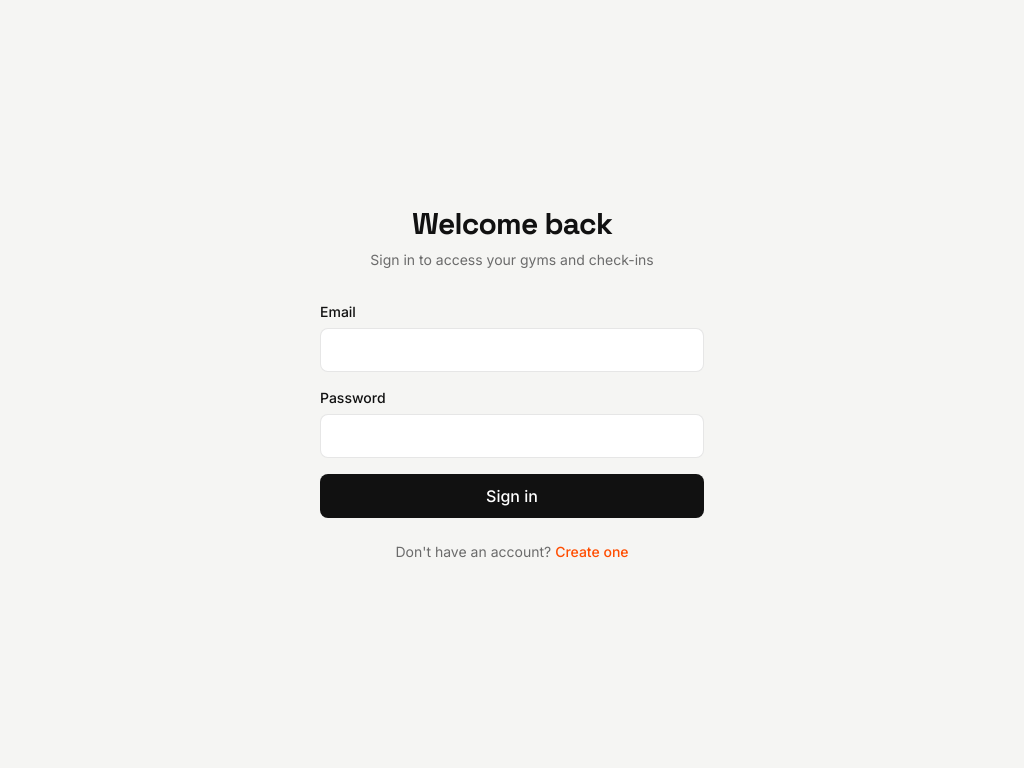
Test: LoginPage › navigates to dashboard on successful login
In the field labelled "Email": {"x": 512, "y": 350} top-left (320, 328), bottom-right (704, 372), type "alice@example.com"
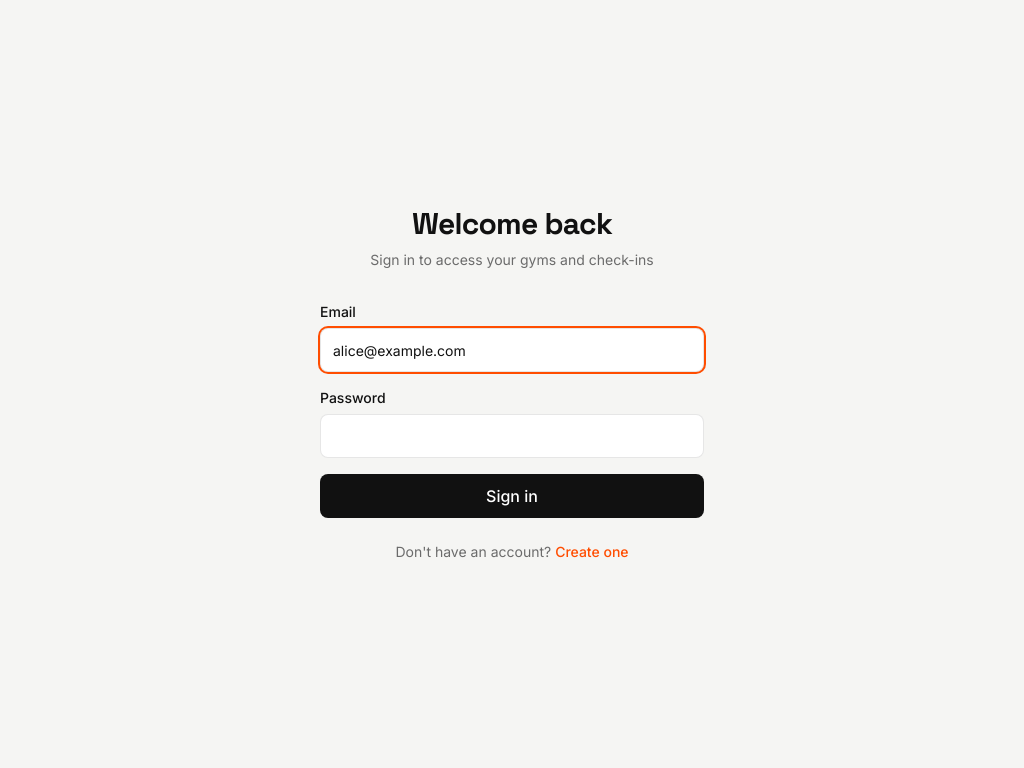
In the password field labelled "Password": {"x": 512, "y": 436} top-left (320, 414), bottom-right (704, 458), type "password"
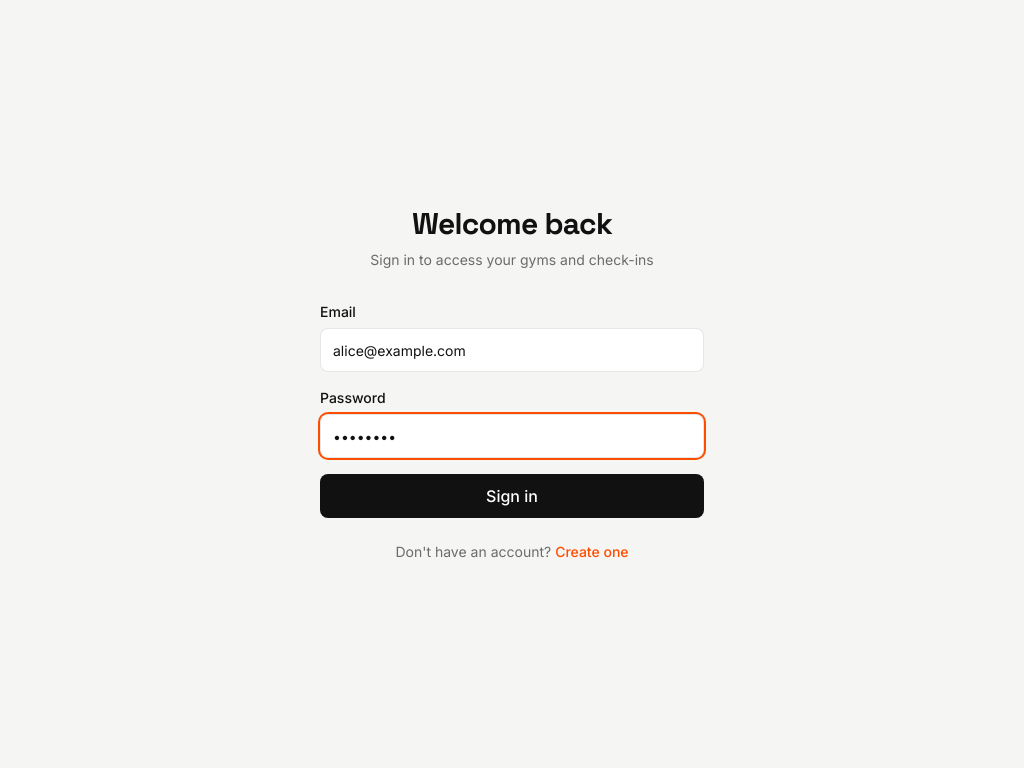
Click the button "Sign in": {"x": 512, "y": 496} top-left (320, 474), bottom-right (704, 518)
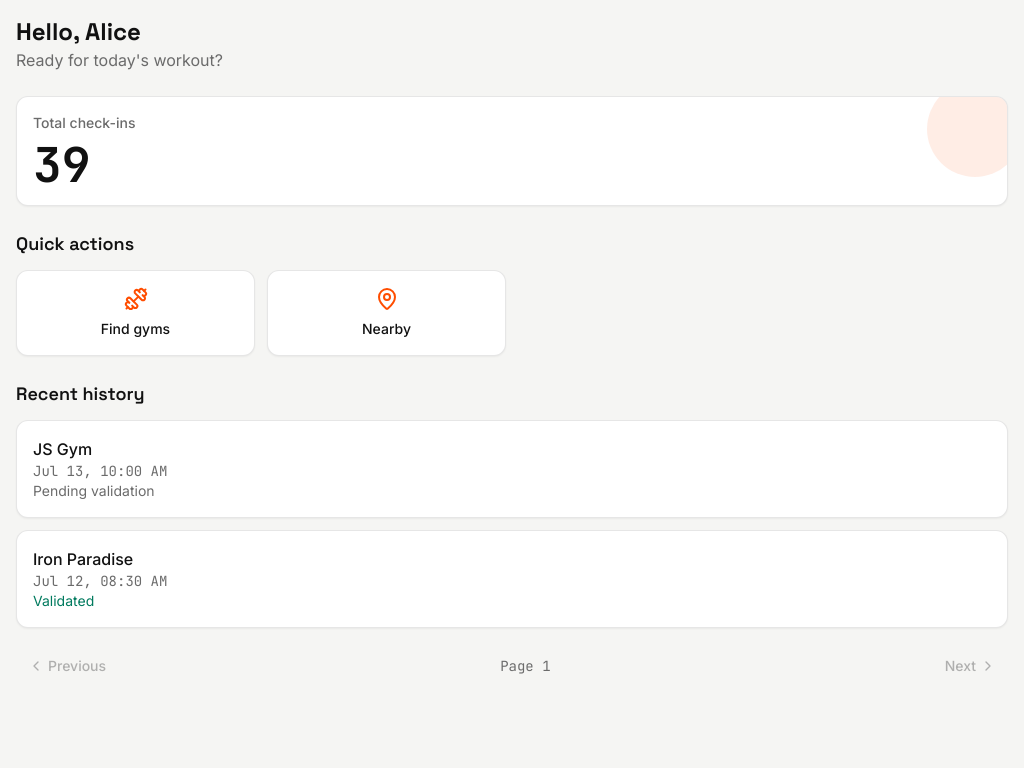
Check: the text "Ready for today's workout?" is shown, box top-left (16, 50), bottom-right (223, 70)
